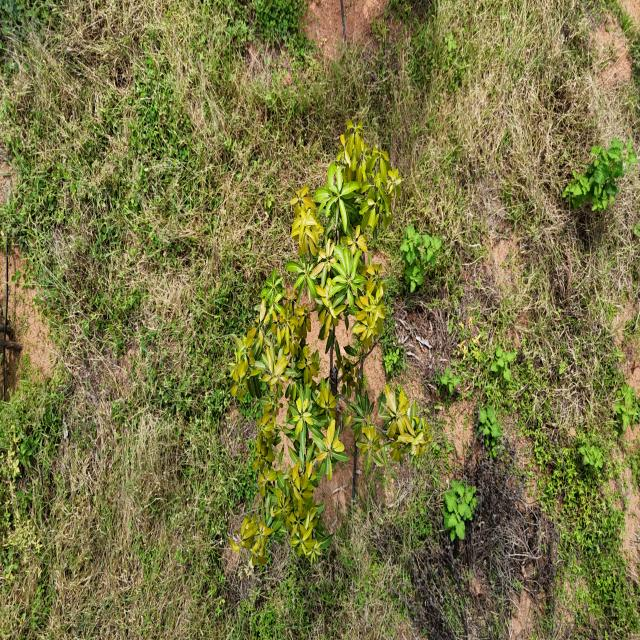mangoTree: (226, 114, 430, 572)
